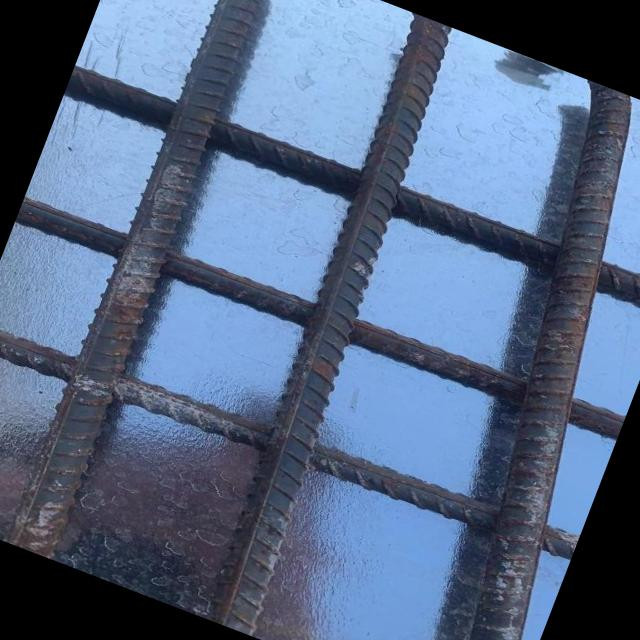ribbed bar: (184, 13, 487, 638), (16, 186, 626, 452), (6, 0, 288, 561), (0, 306, 580, 576), (367, 83, 640, 640), (67, 57, 640, 316)
